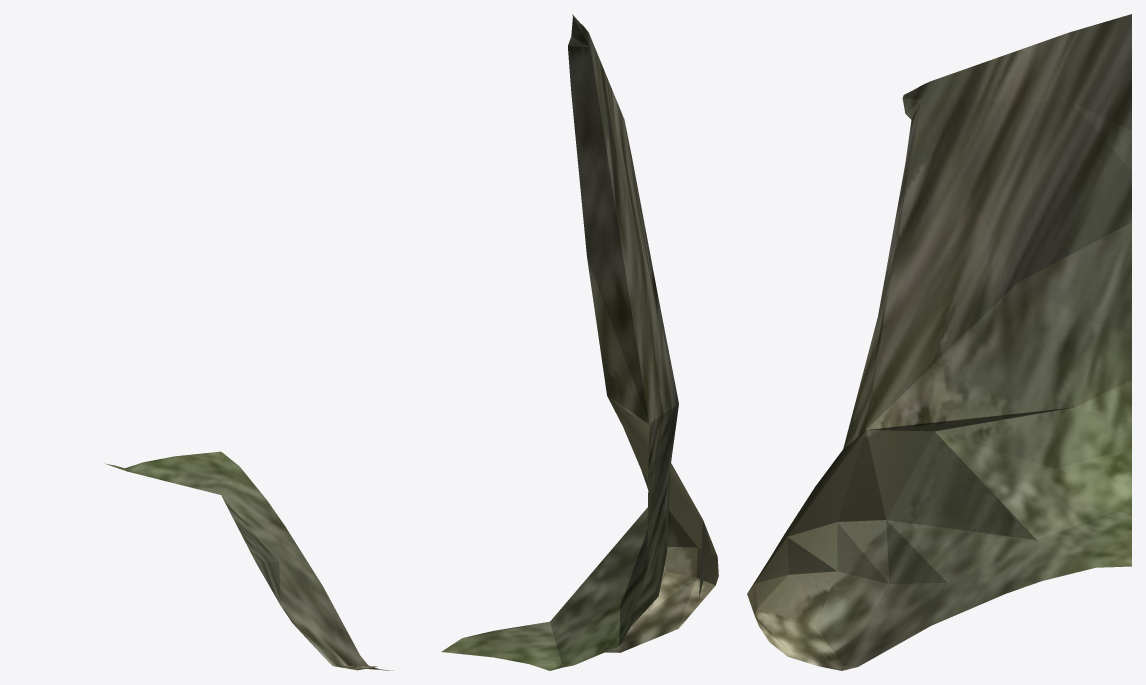
3 views of the same model, side by side, from view 1: azimuth 30°, elevation 25°; view 2: azimuth 150°, elevation 25°; view 3: azimuth 270°, elevation 25° (orthographic). The views are drawn at different scales.
Size of the model in its own units: 0.7485 by 2.02 by 1.22.
Materials: 1 (1 with a texture image).
